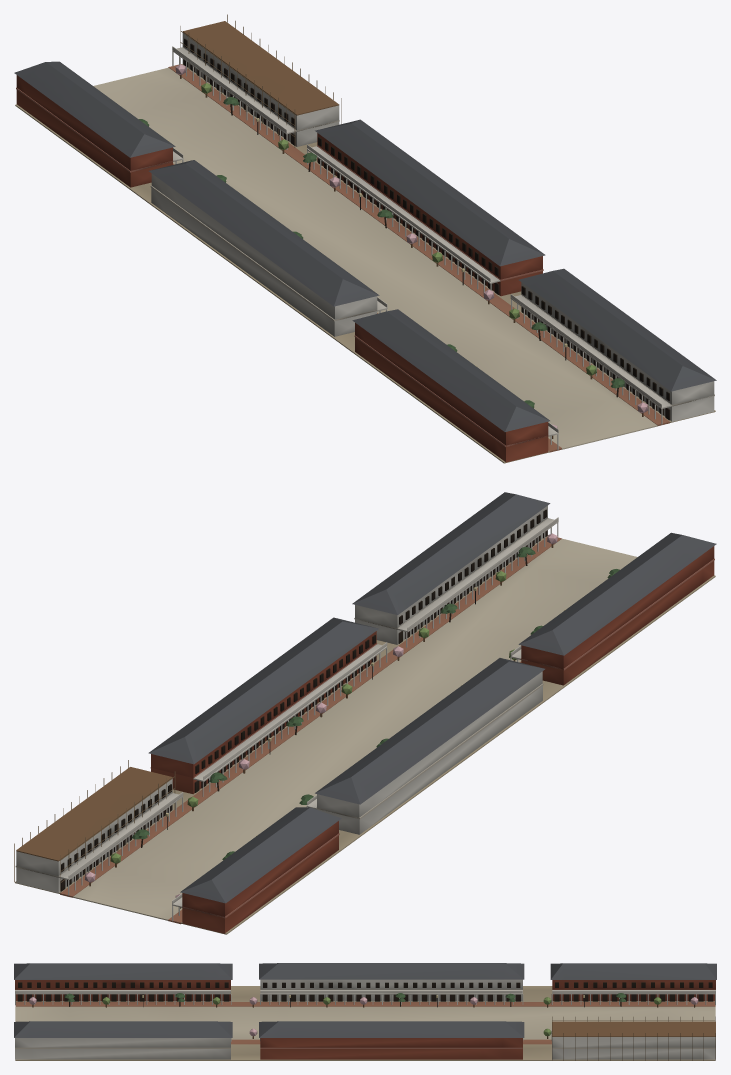
The model's file is ginza-brick.glb.
The picture shows the model from 3 angles, top to bottom: view 1: azimuth 30°, elevation 25°; view 2: azimuth 150°, elevation 25°; view 3: azimuth 270°, elevation 25°; orthographic projection. The views are drawn at different scales.
Visible parts, largest first — view 1: p1_brick blocks, p0_street, p2_trees and lamps; view 2: p1_brick blocks, p0_street, p2_trees and lamps; view 3: p1_brick blocks, p0_street, p2_trees and lamps.
Boxes of the visible parts, box(x1,y1,x2,y2) form: p1_brick blocks: box(14, 14, 716, 462); p0_street: box(15, 64, 715, 463); p2_trees and lamps: box(139, 64, 648, 438); p1_brick blocks: box(14, 492, 716, 933); p0_street: box(15, 536, 715, 934); p2_trees and lamps: box(85, 533, 619, 908); p1_brick blocks: box(14, 963, 716, 1060); p0_street: box(15, 986, 715, 1060); p2_trees and lamps: box(29, 993, 698, 1038).
Bounding box in the file's own units: 60.28 × 12.1 × 241.
